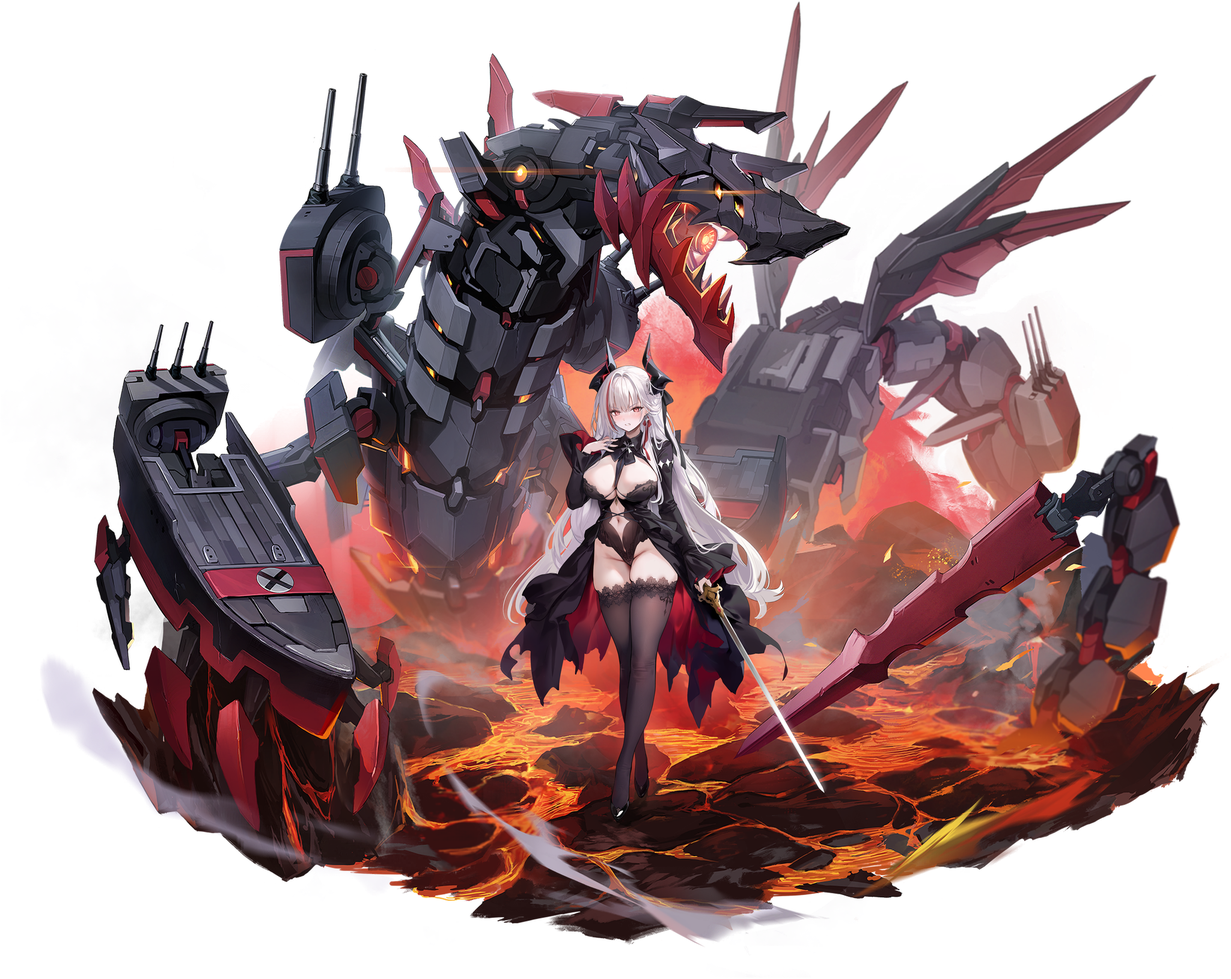person: (489, 322, 799, 856)
